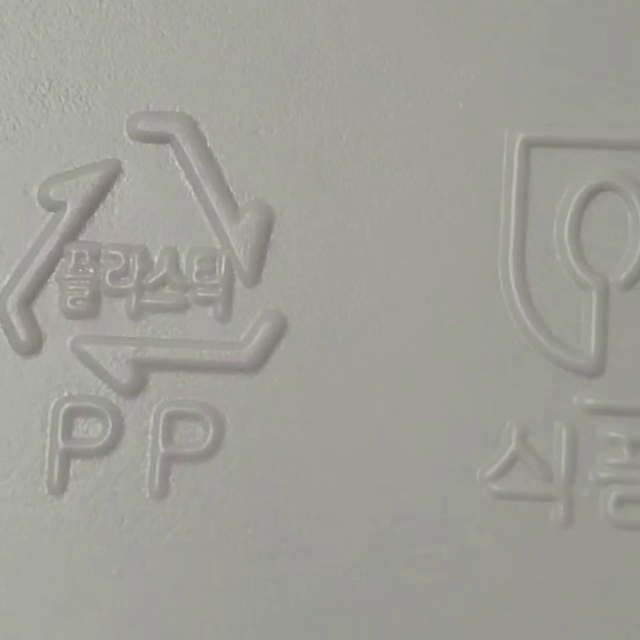Plastic: (0, 105, 292, 388)
